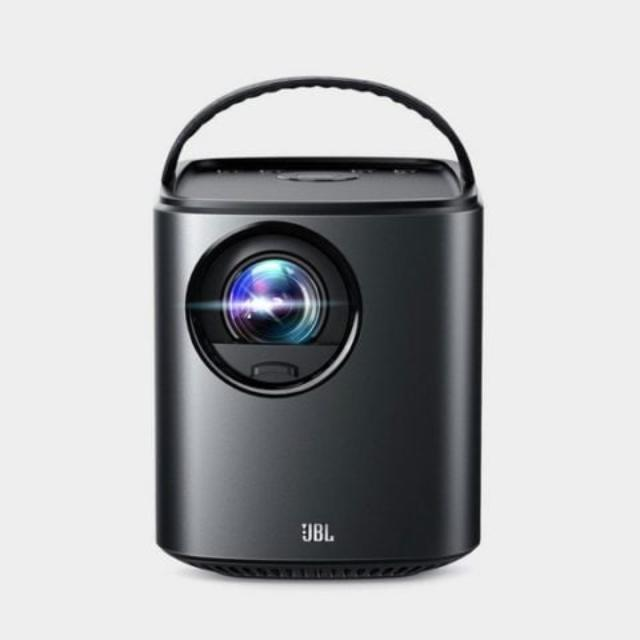Projector: (138, 82, 544, 610)
